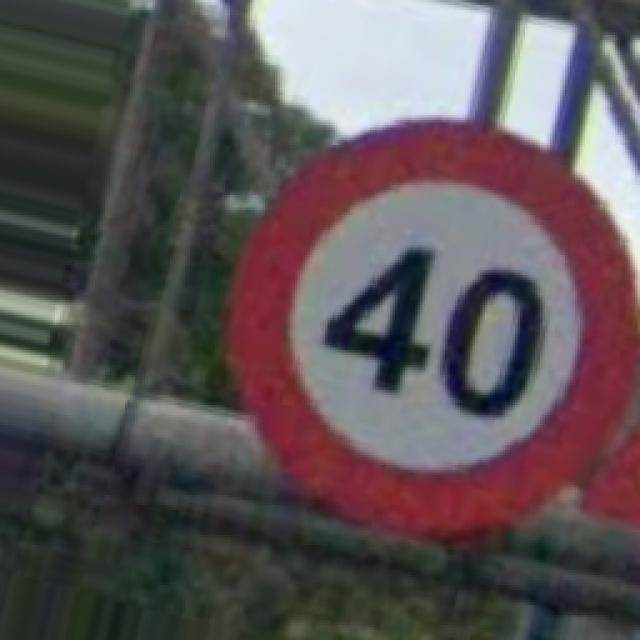Speed Limit -40-: (230, 120, 635, 535)
